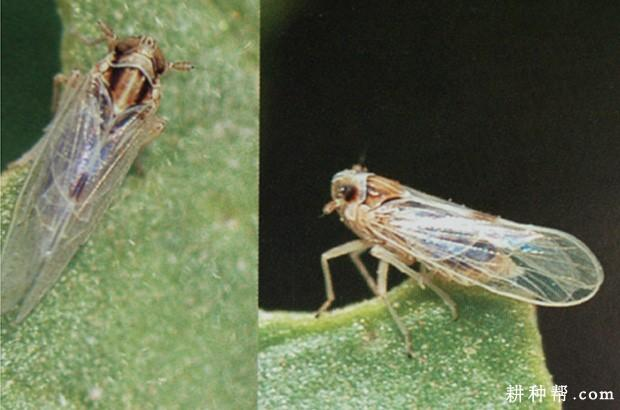Delphacidae: (313, 153, 605, 362), (1, 18, 196, 326)
